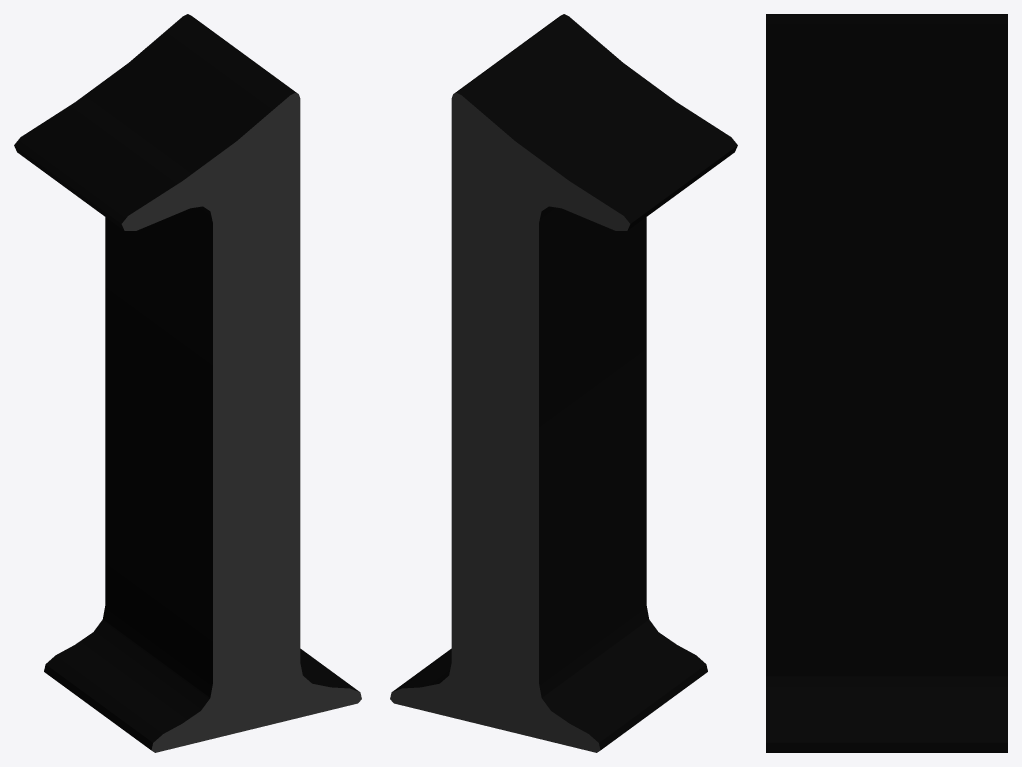
3 views of the same model, side by side, from view 1: azimuth 30°, elevation 25°; view 2: azimuth 150°, elevation 25°; view 3: azimuth 270°, elevation 25° (orthographic). The views are drawn at different scales.
Parts seen in each view (by area): view 1: 1_Soul_Black; view 2: 1_Soul_Black; view 3: 1_Soul_Black.
Boxes of the visible parts, left/top/right/bottom form: 1_Soul_Black: left=14, top=14, right=361, bottom=752; 1_Soul_Black: left=390, top=14, right=737, bottom=752; 1_Soul_Black: left=766, top=14, right=1007, bottom=752.
Size of what is drawn, in the model's own units: 0.058 by 0.1445 by 0.045.
Materials: 2 (2 with a texture image).
